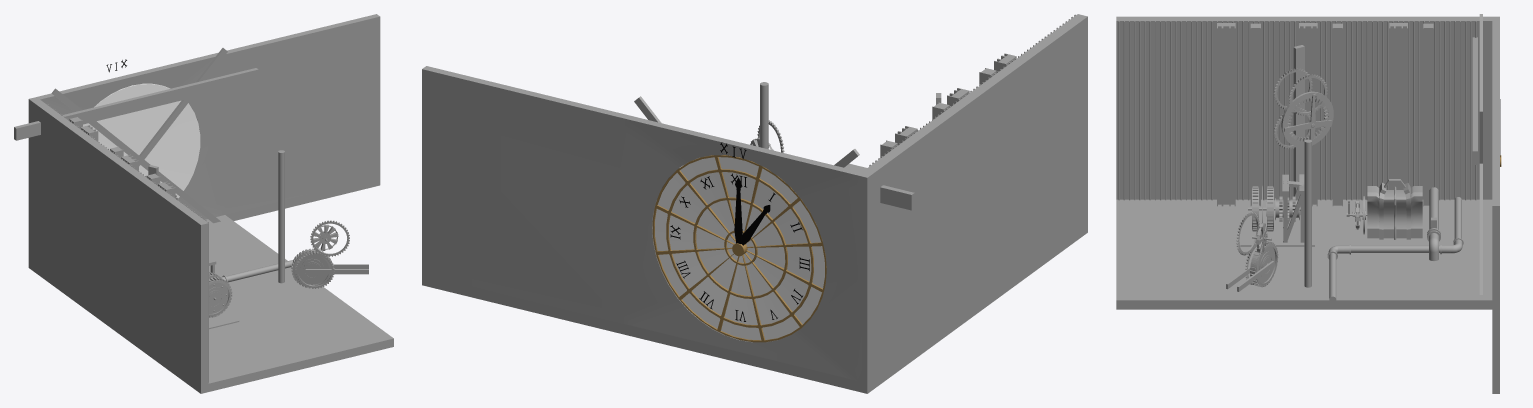
The model's file is mainmenuni.fbx.
3 views of the same model, side by side, from view 1: azimuth 30°, elevation 25°; view 2: azimuth 150°, elevation 25°; view 3: azimuth 270°, elevation 25° (orthographic). The views are drawn at different scales.
Visible parts, largest first — view 1: pCube1, Clock, pCube25, pCube27, Gear2, pCylinder118, pCube26, Gear, pCylinder117, pCylinder116, hollow_gear5, pCube24 (+1 smaller); view 2: pCube1, Clock, pCube25, pCylinder118; view 3: pCube1, pillar3, pillar2, pCube16, pCube2, pCube3, pCube4, pillar1, pCube22, pCylinder103, pCylinder118, pCube10 (+42 smaller).
Boxes of the visible parts, left/top/right/bottom form: pCube1: left=28, top=14, right=393, bottom=393; Clock: left=83, top=83, right=200, bottom=198; pCube25: left=14, top=68, right=258, bottom=140; pCube27: left=51, top=88, right=220, bottom=223; Gear2: left=291, top=248, right=332, bottom=288; pCylinder118: left=278, top=150, right=284, bottom=283; pCube26: left=137, top=48, right=227, bottom=166; Gear: left=209, top=277, right=232, bottom=317; pCylinder117: left=313, top=224, right=338, bottom=250; pCylinder116: left=226, top=260, right=292, bottom=282; hollow_gear5: left=310, top=220, right=349, bottom=256; pCube24: left=305, top=269, right=368, bottom=274; pCube1: left=422, top=14, right=1087, bottom=393; Clock: left=652, top=155, right=826, bottom=342; pCube25: left=880, top=185, right=914, bottom=210; pCylinder118: left=760, top=82, right=768, bottom=149; pCube1: left=1116, top=16, right=1499, bottom=393; pillar3: left=1217, top=23, right=1235, bottom=206; pillar2: left=1389, top=23, right=1407, bottom=189; pCube16: left=1367, top=182, right=1422, bottom=239; pCube2: left=1332, top=23, right=1342, bottom=206; pCube3: left=1423, top=23, right=1433, bottom=206; pCube4: left=1250, top=23, right=1260, bottom=206; pillar1: left=1299, top=23, right=1317, bottom=206; pCube22: left=1293, top=45, right=1304, bottom=214; pCylinder103: left=1281, top=91, right=1333, bottom=147; pCylinder118: left=1304, top=139, right=1311, bottom=287; pCube10: left=1240, top=224, right=1314, bottom=246.
Bounding box in the file's own units: 46.36 × 24.83 × 38.91.
